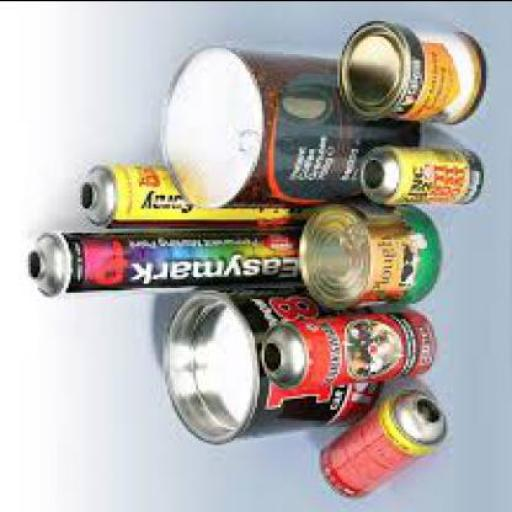metal: (158, 46, 420, 212), (161, 291, 382, 446), (28, 231, 302, 298), (297, 205, 441, 313), (336, 22, 486, 123), (316, 393, 446, 501), (77, 168, 314, 227), (258, 312, 434, 390), (354, 148, 482, 205)
